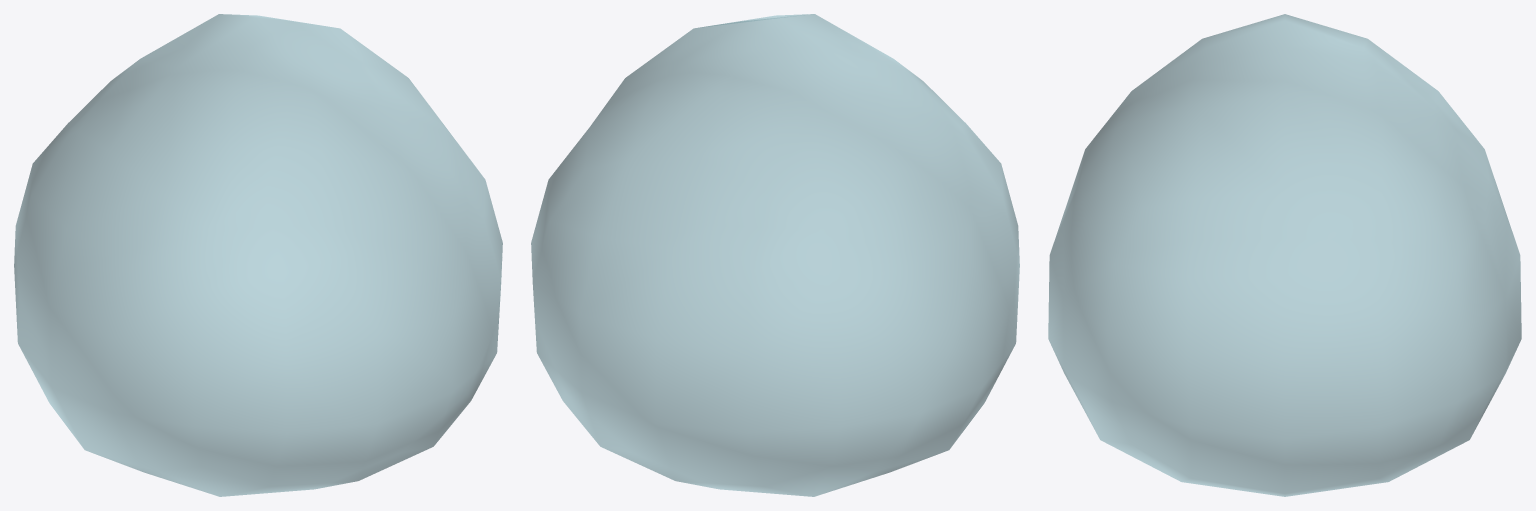
File: Slime.fbx
3 views of the same model, side by side, from view 1: azimuth 30°, elevation 25°; view 2: azimuth 150°, elevation 25°; view 3: azimuth 270°, elevation 25° (orthographic).
Visible parts, largest first — view 1: pCube1; view 2: pCube1; view 3: pCube1.
Part boxes in pixels (<box>): pCube1: <box>14,14,502,496</box>; pCube1: <box>531,14,1019,496</box>; pCube1: <box>1048,14,1521,496</box>.
Bounding box in the file's own units: 1.94 × 1.97 × 1.92.
